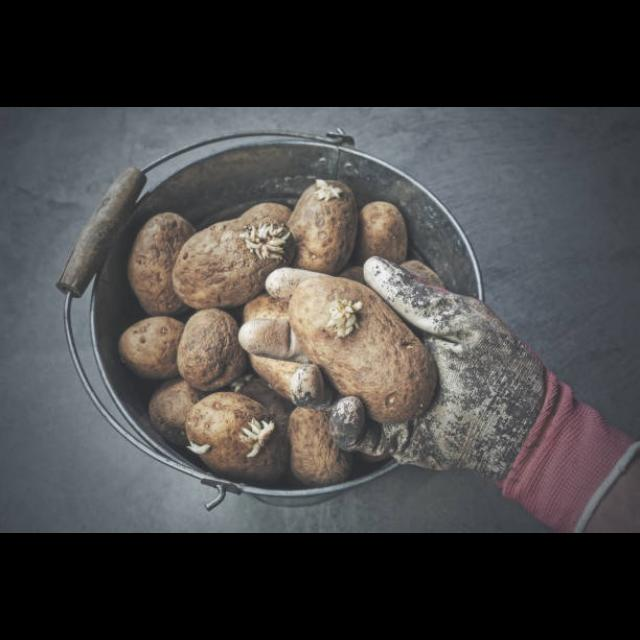Diseased-fungal potato: (132, 207, 204, 323), (176, 302, 252, 391), (282, 401, 360, 482), (110, 314, 194, 376)
Sprouted potato: (290, 274, 448, 426), (176, 194, 310, 310), (184, 383, 294, 487), (292, 170, 378, 284)
